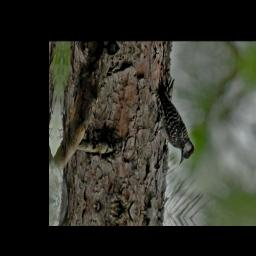Woodpecker: (149, 80, 200, 170)
